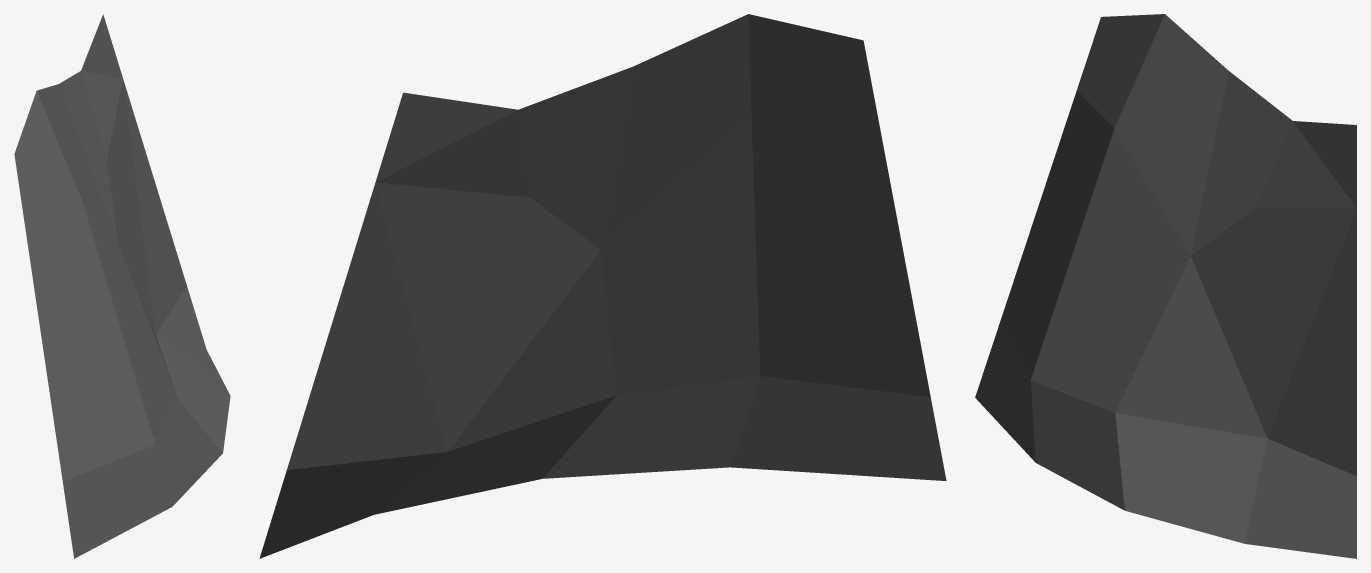
The model's file is mesh_nature_cliff_bottom_corner.fbx.
3 views of the same model, side by side, from view 1: azimuth 30°, elevation 25°; view 2: azimuth 150°, elevation 25°; view 3: azimuth 270°, elevation 25° (orthographic). The views are drawn at different scales.
Visible parts, largest first — view 1: mesh_nature_cliff_bottom_corner; view 2: mesh_nature_cliff_bottom_corner; view 3: mesh_nature_cliff_bottom_corner.
Part boxes in pixels (x1,y1,x2,y2): mesh_nature_cliff_bottom_corner: [14, 14, 230, 558]; mesh_nature_cliff_bottom_corner: [259, 14, 946, 558]; mesh_nature_cliff_bottom_corner: [975, 14, 1356, 558].
Size of the model in its own units: 182 by 216 by 182.
